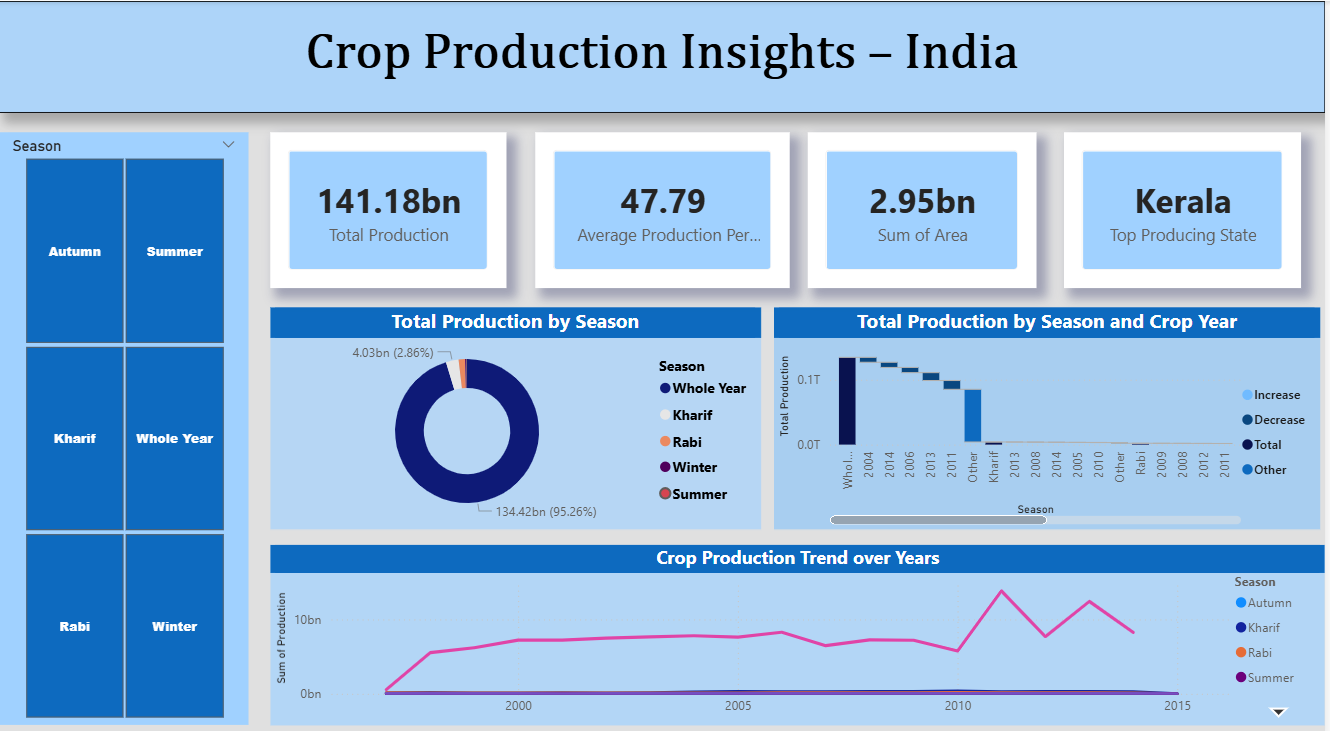

The dashboard page shown, as its layout file describes it:
{"tool":"powerbi","page":{"name":"Insights and Overview","canvas":[1280,720],"ordinal":0},"visuals":[{"type":"textbox","box":[0,0,1280.3,108],"z":0},{"type":"waterfallChart","fields":{"Category":["Crop Production.Season"],"Breakdown":["Crop Production.Crop Year"],"Y":["Crop Production.Total Production"]},"box":[748.6,295.6,526.9,214.6],"z":1000},{"type":"donutChart","fields":{"Category":["Crop Production.Season"],"Y":["Crop Production.Total Production"]},"box":[262.2,295.6,473.2,214.6],"z":2000},{"type":"cardVisual","fields":{"Data":["Crop Production.Total Production"]},"box":[262.2,126.4,227.7,150.2],"z":3000},{"type":"cardVisual","fields":{"Data":["Crop Production.Average Production Per Area"]},"box":[517.3,126.4,245.6,150.2],"z":4000},{"type":"cardVisual","fields":{"Data":["Crop Production.Top Producing State"]},"box":[1027.5,126.4,228.9,150.2],"z":5000},{"type":"cardVisual","fields":{"Data":["Sum(Crop Production.Area)"]},"box":[780.8,126.4,220.5,150.2],"z":6000},{"type":"slicer","fields":{"Values":["Crop Production.Season"]},"box":[0,126.4,240.8,572.2],"z":7000},{"type":"lineChart","title":"Crop Production Trend over Years","fields":{"Category":["Crop Production.Crop Year"],"Y":["Sum(Crop Production.Production)"],"Series":["Crop Production.Season"]},"box":[262.2,524.5,1018,174],"z":8000}]}

Visuals, with their boxes in screenshot pixels (x1, y1, x2, y2), scaled from the page's 1280x720 canvas onto the 1330x731 screenshot:
textbox: [0,0,1329,110]
waterfallChart - Crop Production.Season x Crop Production.Crop Year: [778,300,1325,518]
donutChart - Crop Production.Season x Crop Production.Total Production: [272,300,764,518]
cardVisual - Crop Production.Total Production: [272,128,509,281]
cardVisual - Crop Production.Average Production Per Area: [538,128,793,281]
cardVisual - Crop Production.Top Producing State: [1068,128,1305,281]
cardVisual - Sum(Crop Production.Area): [811,128,1040,281]
slicer - Crop Production.Season: [0,128,250,709]
"Crop Production Trend over Years" lineChart: [272,533,1329,709]
